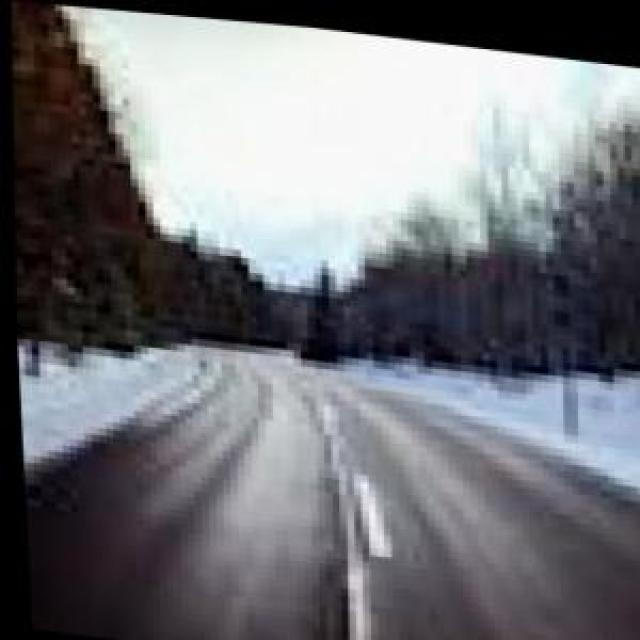ice-road: (22, 335, 640, 640)
